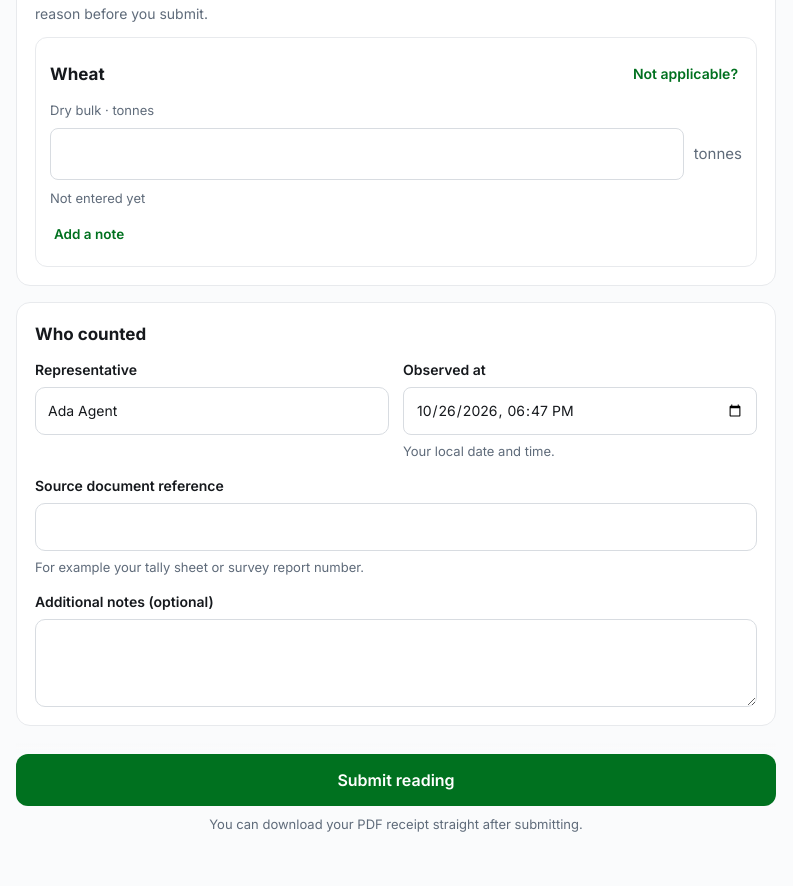
Scenario: guest agency reading presentation › does not accept a submitted receipt from another context
(page scrolled)
Type "AGENCY-001" into the field labelled "Source document reference" at (396,527), box [35, 503, 757, 551]
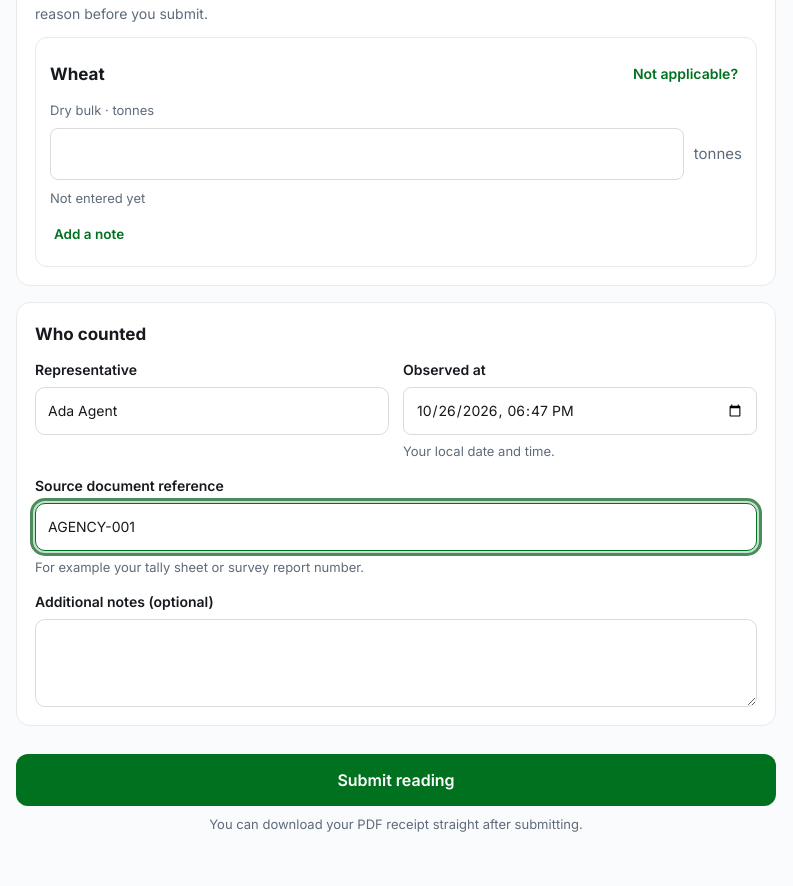
Replace the text in the field labelled "Observed at" with "2026-10-05T10:30" at (580,411), box [403, 387, 757, 435]
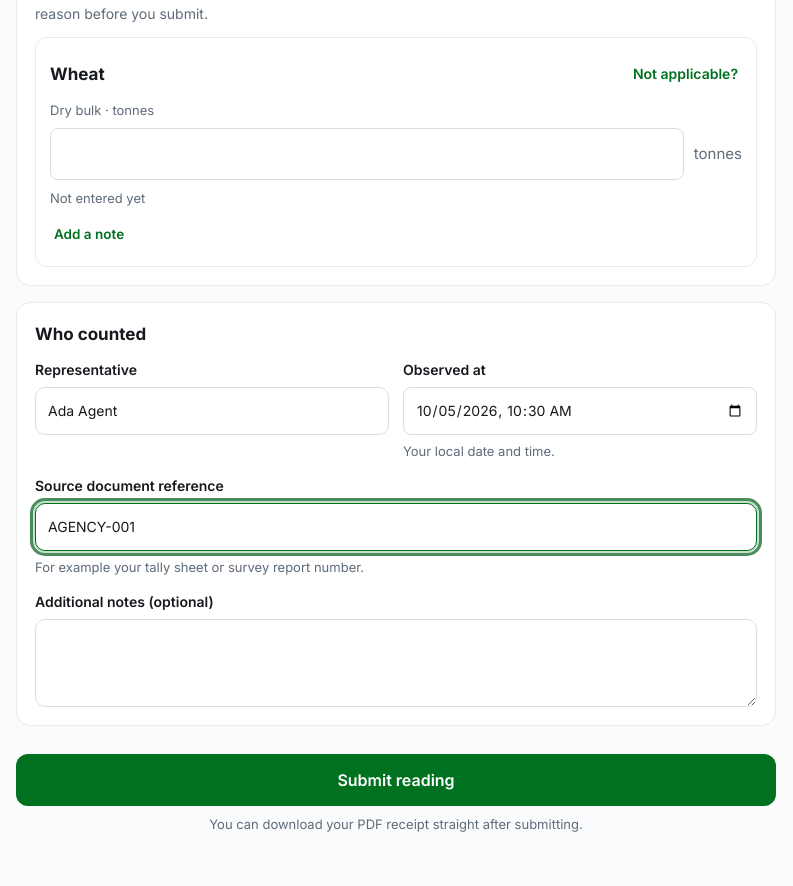
Type "0" into the number field named "Measured quantity · Wheat · import" at (367,154), box [50, 128, 684, 180]
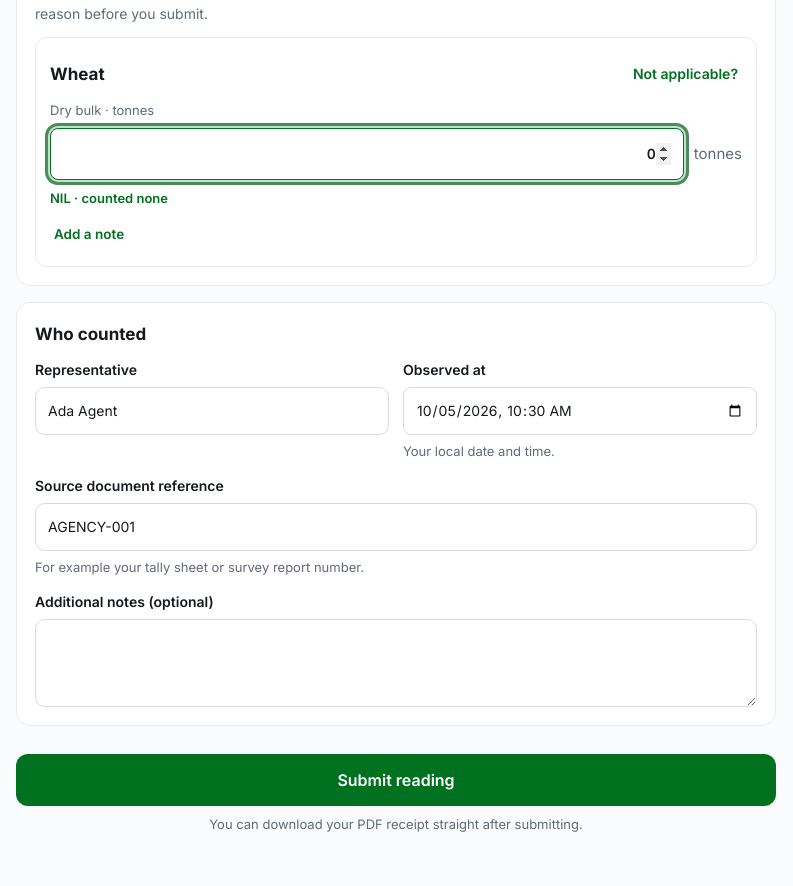
Click the button "Submit reading" at (396,780), box [16, 754, 776, 806]
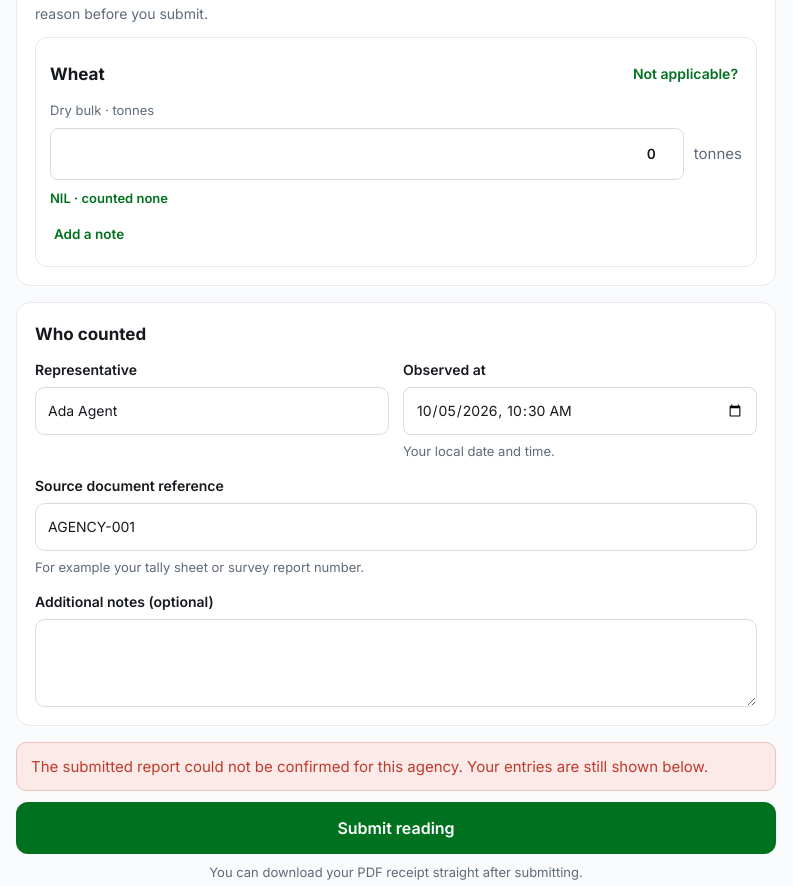
Check: the message shows "could not be confirmed for this agency", box [31, 757, 708, 776]
